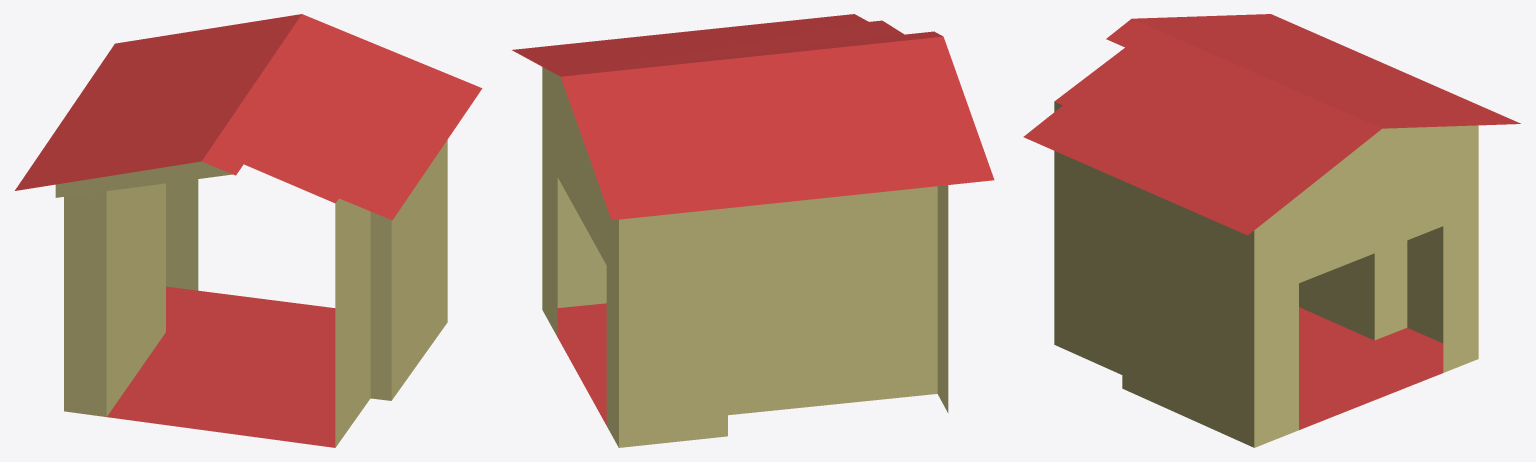
3 renders of one model, left to right at view 1: azimuth 30°, elevation 25°; view 2: azimuth 150°, elevation 25°; view 3: azimuth 270°, elevation 25°, orthographic. The views are drawn at different scales.
Bounding box in the file's own units: 18.74 × 17.82 × 11.04.
